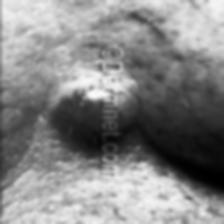Potentially Malignant Skin Tumors: (56, 86, 134, 138)
